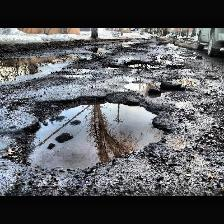pothole: (10, 93, 170, 169), (127, 61, 152, 69), (124, 81, 146, 89), (176, 78, 200, 84)
